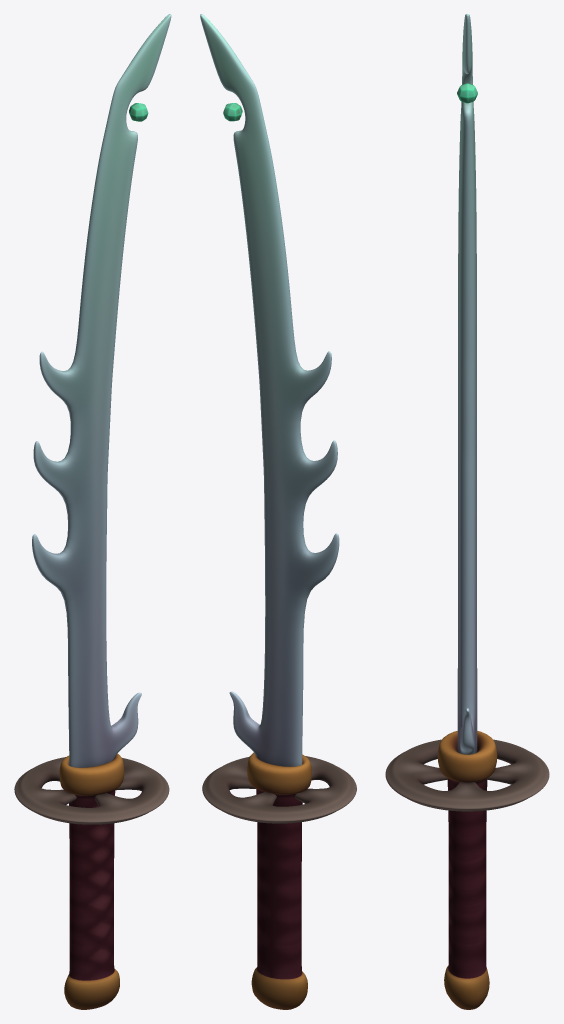
The model's file is Sword08.fbx.
3 renders of one model, left to right at view 1: azimuth 30°, elevation 25°; view 2: azimuth 150°, elevation 25°; view 3: azimuth 270°, elevation 25°, orthographic. The views are drawn at different scales.
Visible parts, largest first — view 1: Sword08; view 2: Sword08; view 3: Sword08.
Boxes of the visible parts, x1,y1,x2,y2 form: Sword08: [14, 14, 171, 1009]; Sword08: [200, 14, 356, 1009]; Sword08: [385, 14, 549, 1009].
Bounding box in the file's own units: 13 × 82.5 × 11.9.
